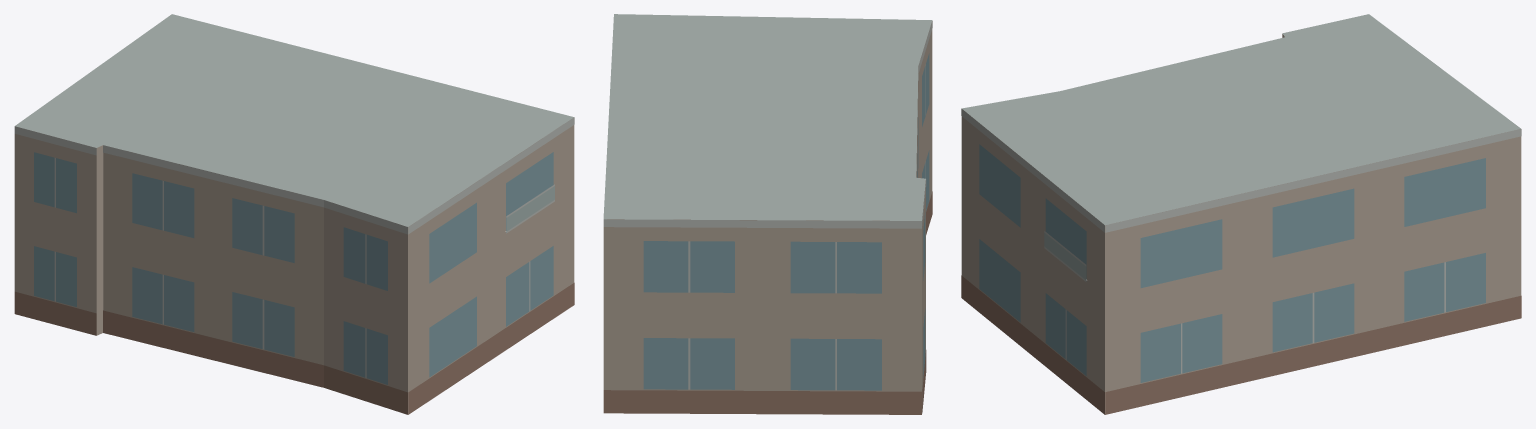
The model's file is survey-upis-32687557.glb.
3 views of the same model, side by side, from view 1: azimuth 30°, elevation 25°; view 2: azimuth 150°, elevation 25°; view 3: azimuth 270°, elevation 25° (orthographic). The views are drawn at different scales.
Visible parts, largest first — view 1: survey-upis-32687557.tmp; view 2: survey-upis-32687557.tmp; view 3: survey-upis-32687557.tmp.
Boxes of the visible parts, box(x1,y1,x2,y2) form: survey-upis-32687557.tmp: box(14, 14, 574, 414); survey-upis-32687557.tmp: box(603, 14, 932, 414); survey-upis-32687557.tmp: box(961, 14, 1521, 414).
Bounding box in the file's own units: 14.6 × 6.1 × 16.34.
